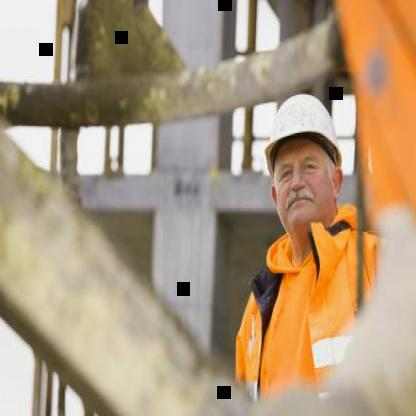helmet: (257, 74, 352, 254)
